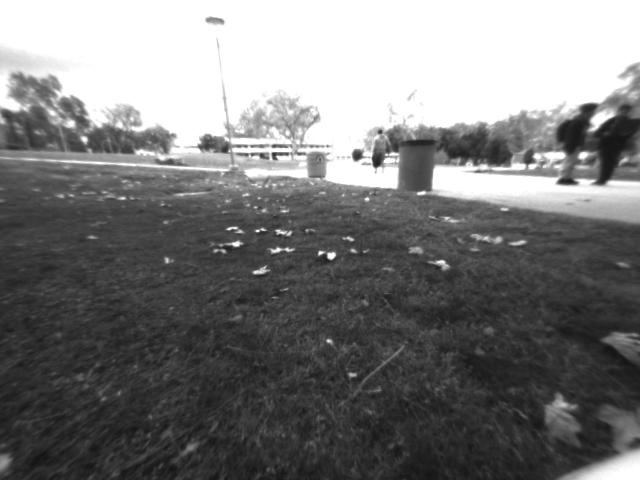trashcan: (396, 136, 434, 192), (308, 146, 330, 180)
